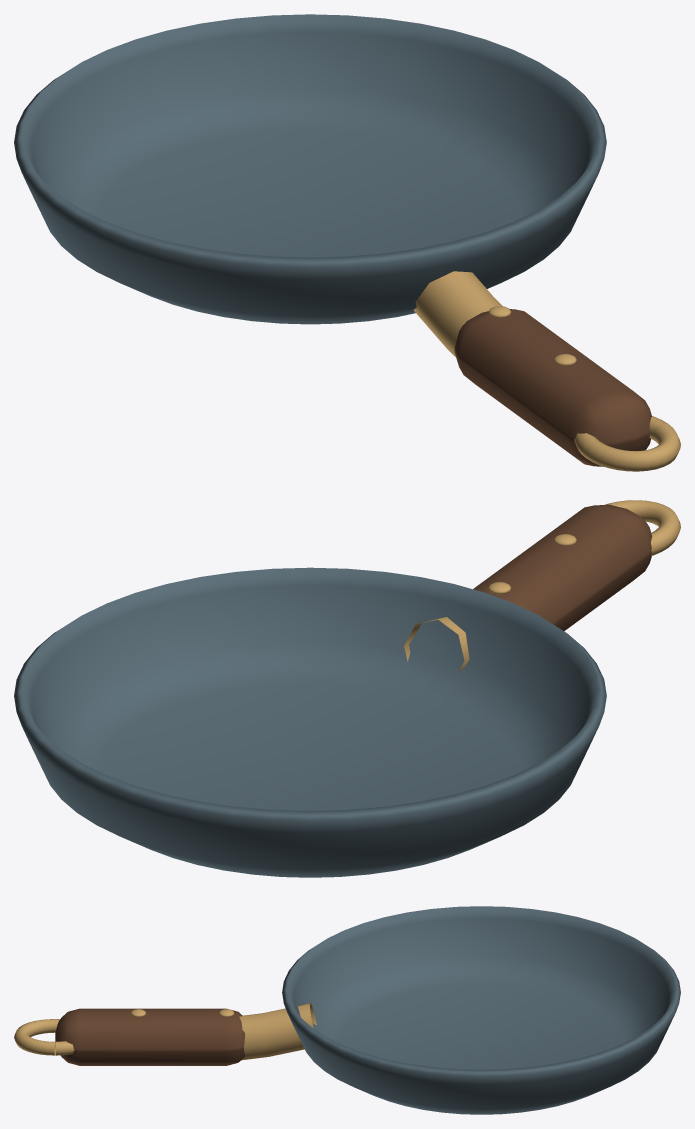
File: weapon_pan_crafted.glb
The picture shows the model from 3 angles, top to bottom: view 1: azimuth 30°, elevation 25°; view 2: azimuth 150°, elevation 25°; view 3: azimuth 270°, elevation 25°; orthographic projection. The views are drawn at different scales.
Visible parts, largest first — view 1: Brushed blue iron, Oiled walnut grip, Satin antique brass; view 2: Brushed blue iron, Oiled walnut grip, Satin antique brass; view 3: Brushed blue iron, Oiled walnut grip, Satin antique brass.
Part boxes in pixels (box(x1,y1,x2,y2)): Brushed blue iron: box(14, 14, 606, 324); Oiled walnut grip: box(454, 309, 652, 466); Satin antique brass: box(413, 271, 680, 471); Brushed blue iron: box(14, 567, 606, 877); Oiled walnut grip: box(473, 504, 652, 631); Satin antique brass: box(404, 500, 680, 672); Brushed blue iron: box(282, 906, 680, 1114); Oiled walnut grip: box(55, 1008, 245, 1065); Satin antique brass: box(14, 1003, 316, 1060).
Bounding box in the file's own units: 0.814 × 0.1646 × 1.36.
